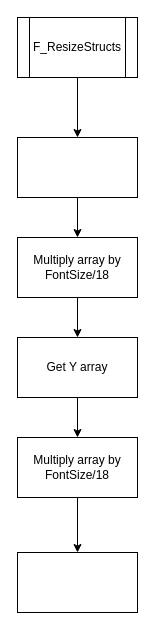
This 155x630 diagram has some shape labels left out. Each missing label, with the centre of its shape:
Get X array: [77,167]
Return 0: [77,582]
